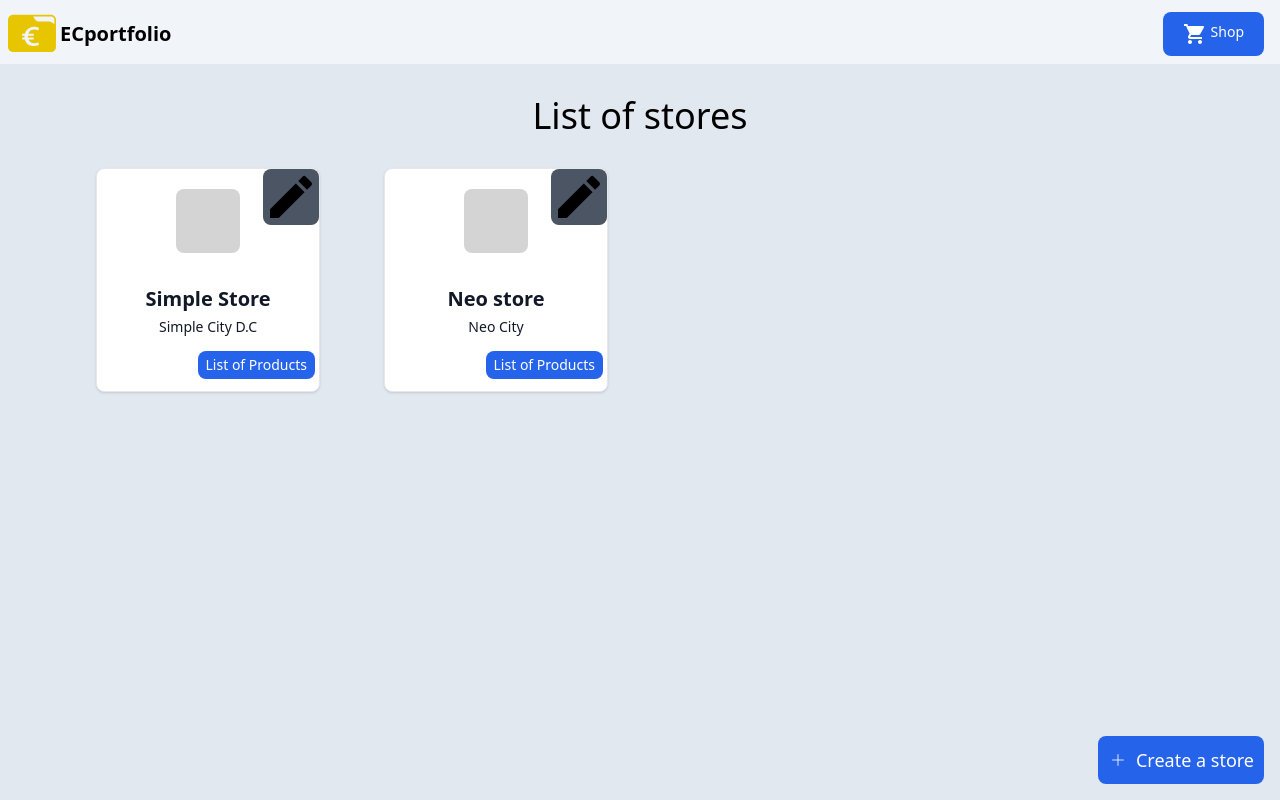
Test: Store Crud Test › Read a store using display mode
Click the element with id "storeElementGallery1" at (208, 280), box [96,168,320,392]
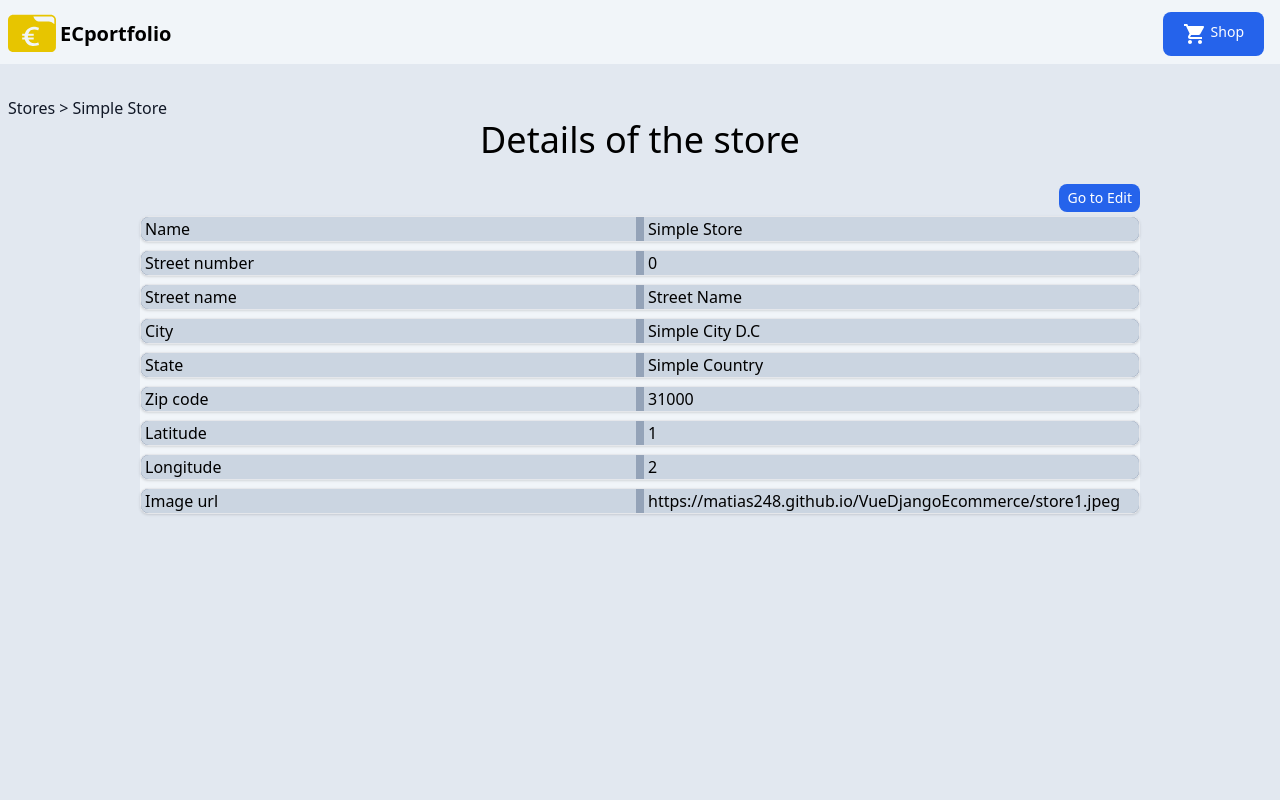
Check: the text with id "displayStoreElement1key" reads "Name", box [145,218,190,240]
Check: the text with id "displayStoreElement1value" reads "Simple Store", box [648,218,743,240]
Check: the text "Street number" is shown, box [141,251,636,275]
